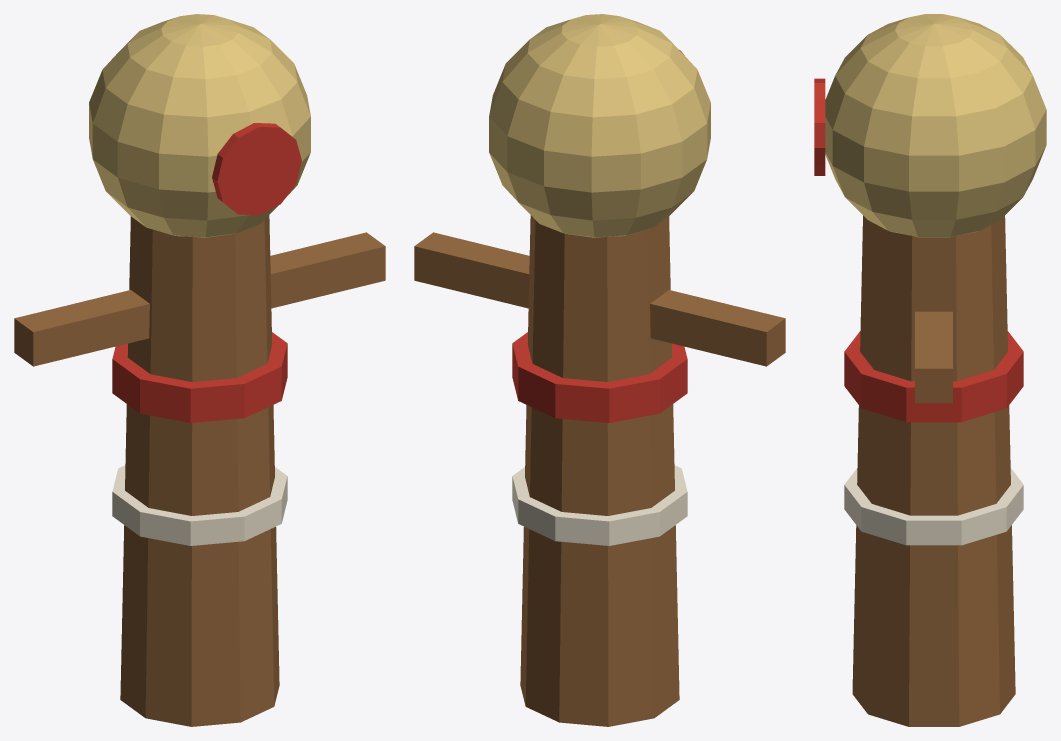
The model's file is totem.glb.
The picture shows the model from 3 angles, left to right: view 1: azimuth 30°, elevation 25°; view 2: azimuth 150°, elevation 25°; view 3: azimuth 270°, elevation 25°; orthographic projection.
Parts seen in each view (by area): view 1: Totem; view 2: Totem; view 3: Totem.
Boxes of the visible parts, x1,y1,x2,y2 form: Totem: (14,14,385,726); Totem: (414,14,785,726); Totem: (814,14,1046,726).
Size of the model in its own units: 1.5 by 2.72 by 0.8536.
